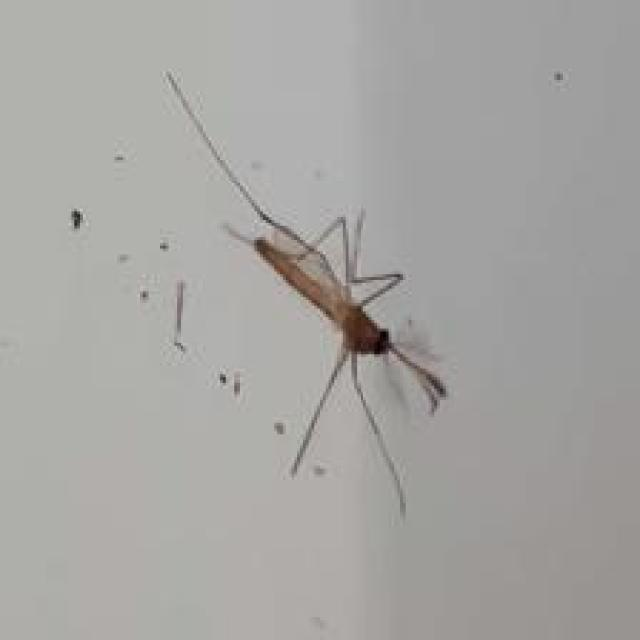Culex: (161, 69, 450, 517)
